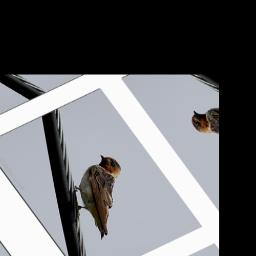Swallow: (51, 149, 159, 243)
